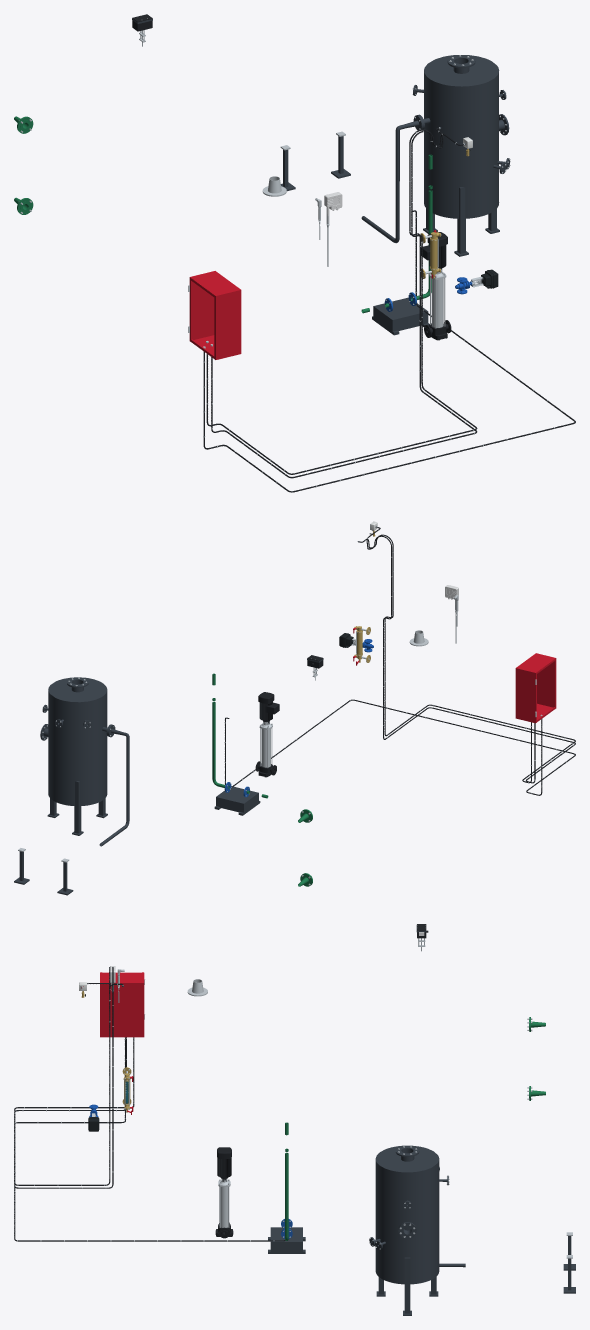
The picture shows the model from 3 angles, top to bottom: view 1: azimuth 30°, elevation 25°; view 2: azimuth 150°, elevation 25°; view 3: azimuth 270°, elevation 25°; orthographic projection. The views are drawn at different scales.
Parts seen in each view (by area): view 1: separator_bdv60_5 / dark, control_cabinet / control_cabinet_0.npz, wiring_pressure_switch_1 / black, wiring_pressure_switch_3 / black, wiring_pump_2 / black, pump_branch_2 / dark, bottom_to_bdv / dark, trap_support / dark; view 2: separator_bdv60_5 / dark, control_cabinet / control_cabinet_0.npz, wiring_pressure_switch_3 / black, wiring_pressure_switch_1 / black, wiring_pump_2 / black, pump_branch_2 / dark, bottom_to_bdv / dark, pump_1 CAD solid 15; view 3: separator_bdv60_5 / dark, control_cabinet / control_cabinet_0.npz, wiring_pressure_switch_3 / black, wiring_pump_2 / black, pump_branch_2 / dark, wiring_pressure_switch_1 / black.
Boxes of the visible parts, x1,y1,x2,y2 form: separator_bdv60_5 / dark: [413, 55, 510, 256]; control_cabinet / control_cabinet_0.npz: [188, 271, 241, 359]; wiring_pressure_switch_1 / black: [211, 129, 477, 478]; wiring_pressure_switch_3 / black: [206, 128, 477, 474]; wiring_pump_2 / black: [203, 210, 575, 492]; pump_branch_2 / dark: [372, 297, 429, 335]; bottom_to_bdv / dark: [361, 115, 423, 243]; trap_support / dark: [280, 136, 350, 191]; separator_bdv60_5 / dark: [40, 677, 111, 835]; control_cabinet / control_cabinet_0.npz: [515, 653, 556, 723]; wiring_pressure_switch_3 / black: [359, 534, 575, 783]; wiring_pressure_switch_1 / black: [366, 527, 575, 783]; wiring_pump_2 / black: [225, 699, 575, 795]; pump_branch_2 / dark: [214, 786, 260, 815]; bottom_to_bdv / dark: [99, 724, 129, 846]; pump_1 CAD solid 15: [258, 692, 279, 721]; separator_bdv60_5 / dark: [369, 1145, 448, 1315]; control_cabinet / control_cabinet_0.npz: [100, 972, 145, 1037]; wiring_pressure_switch_3 / black: [14, 967, 134, 1185]; wiring_pump_2 / black: [14, 1037, 285, 1241]; pump_branch_2 / dark: [268, 1227, 305, 1253]; wiring_pressure_switch_1 / black: [14, 967, 126, 1188].
Bounding box in the file's own units: 5.54 × 3.27 × 6.75.
